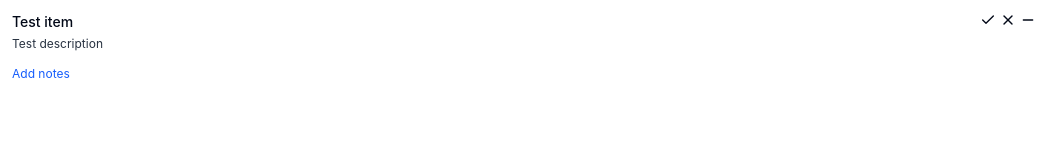
ChecklistItem - Status buttons › should toggle to Hide notes when Add notes is clicked
This screenshot has width=1048, height=167.
Click the button "Add notes": click(41, 74) [12,66,70,82]
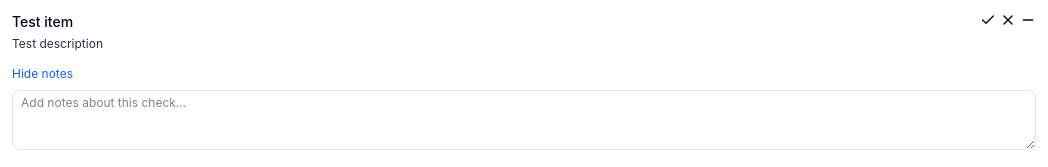
Expected: the button "Hide notes" is shown, [12,66,73,82]
